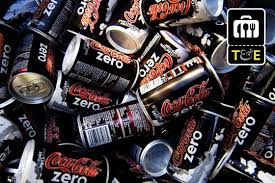can: (139, 43, 234, 127), (58, 31, 138, 92), (69, 107, 155, 146)
